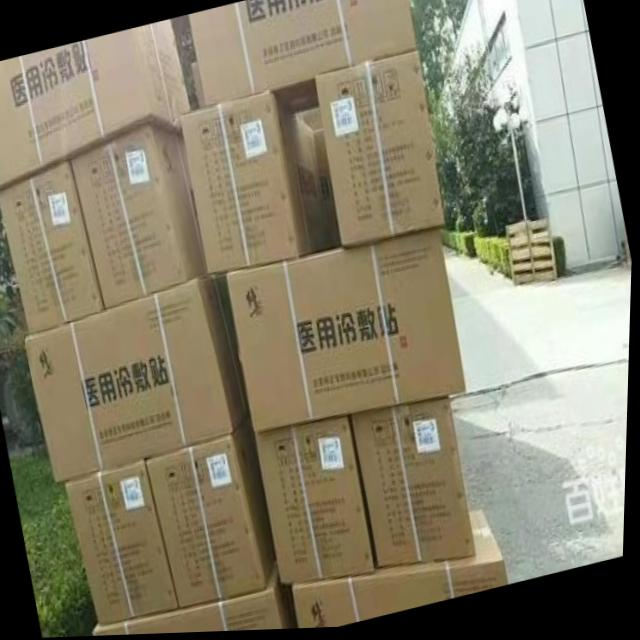box: (227, 230, 469, 434), (27, 275, 251, 485), (0, 20, 192, 192), (180, 93, 334, 278), (188, 0, 418, 116), (315, 53, 447, 253), (294, 510, 512, 631), (148, 414, 279, 611), (70, 126, 208, 308), (353, 399, 479, 571), (258, 419, 380, 586), (67, 461, 182, 626), (0, 161, 106, 333), (97, 562, 294, 637), (311, 130, 343, 249), (192, 63, 206, 108)
